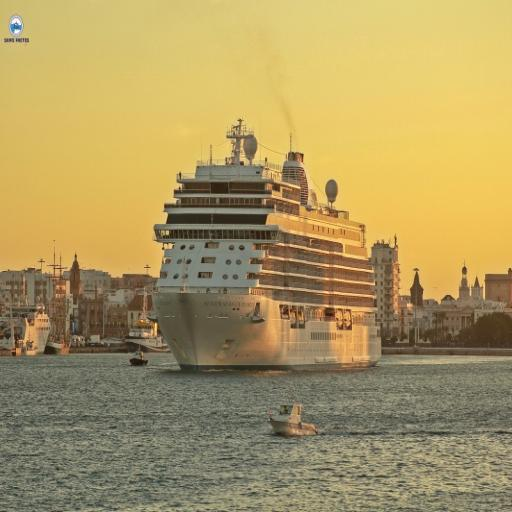cruises: (151, 115, 388, 381)
